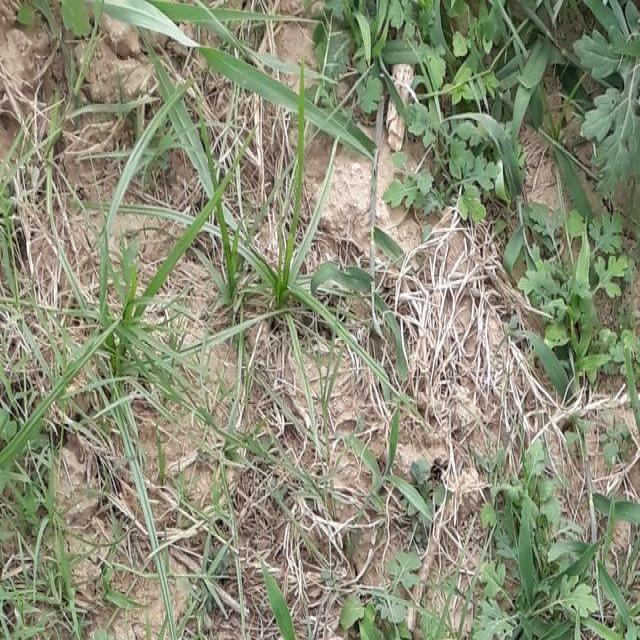weed: (315, 1, 640, 208), (165, 142, 389, 371), (470, 437, 634, 640), (497, 220, 640, 398), (3, 363, 93, 640)
